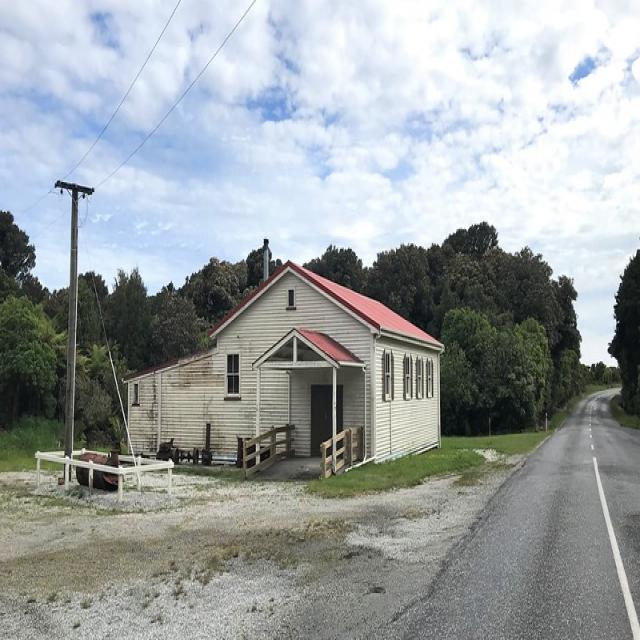Normal_building: (117, 260, 446, 490)
